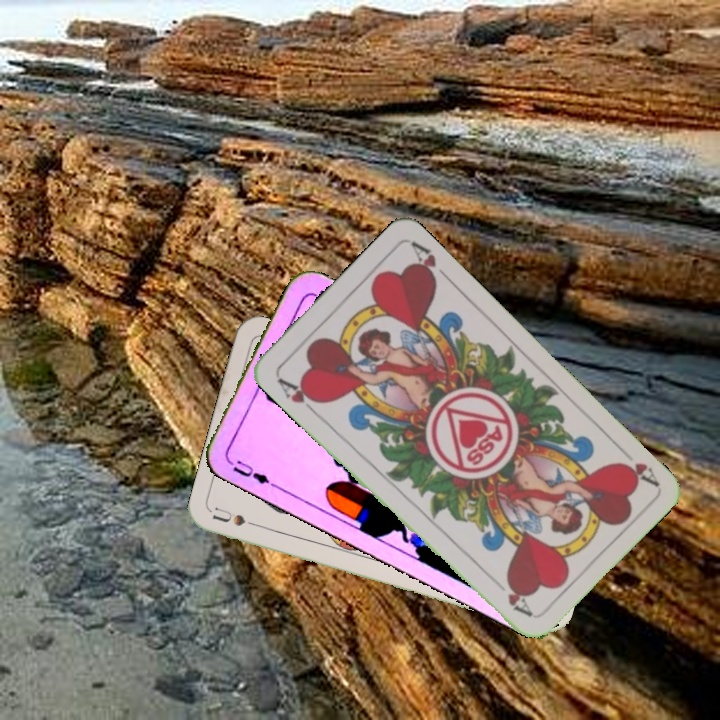EU: (223, 455, 272, 487)
HA: (273, 373, 326, 418), (613, 441, 661, 488)
SU: (210, 504, 269, 532)
